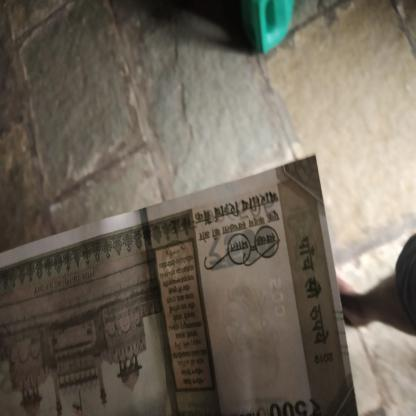New500Back: (0, 163, 354, 415)
